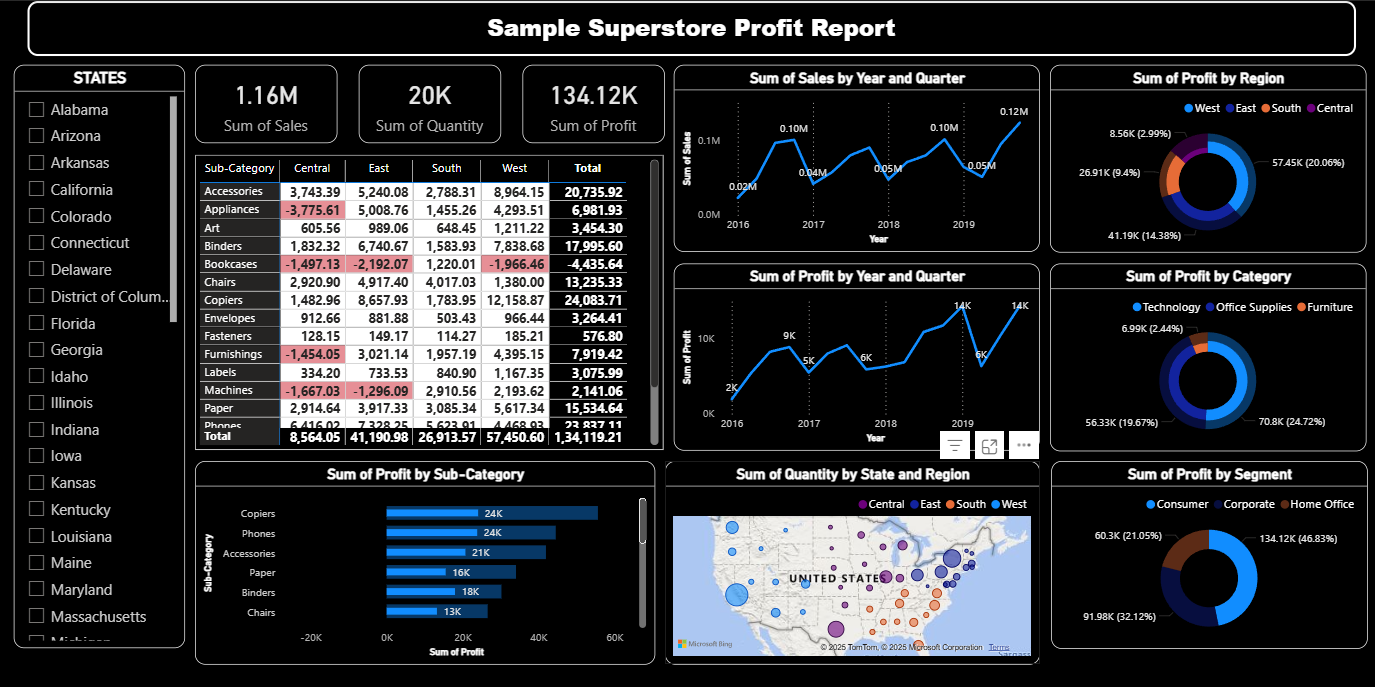

What the dashboard file says about the page in this screenshot:
{"tool":"powerbi","page":{"name":"Page 1","canvas":[1600,800],"ordinal":0},"visuals":[{"type":"textbox","box":[32,0,1545.1,64],"z":0},{"type":"donutChart","fields":{"Category":["Orders.Region"],"Y":["Sum(Orders.Profit)"]},"box":[1220.9,74.1,367.7,218],"z":1},{"type":"donutChart","fields":{"Y":["Sum(Orders.Profit)"],"Category":["Orders.Category"]},"box":[1220.9,305.2,367.7,218],"z":2},{"type":"donutChart","fields":{"Y":["Sum(Orders.Profit)"],"Category":["Orders.Segment"]},"box":[1222.4,534.9,367.7,218],"z":3},{"type":"lineChart","fields":{"Category":["Orders.Order Date.Variation.Date Hierarchy.Year","Orders.Order Date.Variation.Date Hierarchy.Quarter"],"Y":["Sum(Orders.Sales)"]},"box":[783.9,74.2,425.8,217.7],"z":4},{"type":"barChart","fields":{"Category":["Orders.Sub-Category"],"Y":["Sum(Orders.Profit)"]},"box":[226.7,534.9,534.9,236.9],"z":5},{"type":"card","fields":{"Values":["Sum(Orders.Sales)"]},"box":[226.7,74.1,165.7,91.6],"z":6},{"type":"card","fields":{"Values":["Sum(Orders.Profit)"]},"box":[607.6,74.1,165.7,91.6],"z":7},{"type":"card","fields":{"Values":["Sum(Orders.Quantity)"]},"box":[417.2,74.1,165.7,91.6],"z":8},{"type":"pivotTable","fields":{"Rows":["Orders.Sub-Category"],"Columns":["Orders.Region"],"Values":["Sum(Orders.Profit)"]},"box":[227.4,179,545.2,343.5],"z":9},{"type":"slicer","title":"STATES","fields":{"Values":["Orders.State"]},"box":[16,74.1,199.1,678.8],"z":10},{"type":"lineChart","fields":{"Category":["Orders.Order Date.Variation.Date Hierarchy.Year","Orders.Order Date.Variation.Date Hierarchy.Quarter"],"Y":["Sum(Orders.Profit)"]},"box":[783.9,304.8,425.8,217.7],"z":11},{"type":"map","fields":{"Series":["Orders.Region"],"Category":["Orders.State"],"Size":["Sum(Orders.Quantity)"]},"box":[773.3,534.9,436,236.9],"z":12}]}

Visuals, with their boxes in screenshot pixels (x1, y1, x2, y2), scaled from the page's 1600x800 canvas onto the 1375x687 screenshot:
textbox: 28/0/1355/55
donutChart - Orders.Region x Sum(Orders.Profit): 1049/64/1365/251
donutChart - Sum(Orders.Profit) x Orders.Category: 1049/262/1365/449
donutChart - Sum(Orders.Profit) x Orders.Segment: 1050/459/1366/647
lineChart - Orders.Order Date.Variation.Date Hierarchy.Year x Orders.Order Date.Variation.Date Hierarchy.Quarter: 674/64/1040/251
barChart - Orders.Sub-Category x Sum(Orders.Profit): 195/459/654/663
card - Sum(Orders.Sales): 195/64/337/142
card - Sum(Orders.Profit): 522/64/665/142
card - Sum(Orders.Quantity): 359/64/501/142
pivotTable - Orders.Sub-Category x Orders.Region: 195/154/664/449
"STATES" slicer: 14/64/185/647
lineChart - Orders.Order Date.Variation.Date Hierarchy.Year x Orders.Order Date.Variation.Date Hierarchy.Quarter: 674/262/1040/449
map - Orders.Region x Orders.State: 665/459/1039/663
